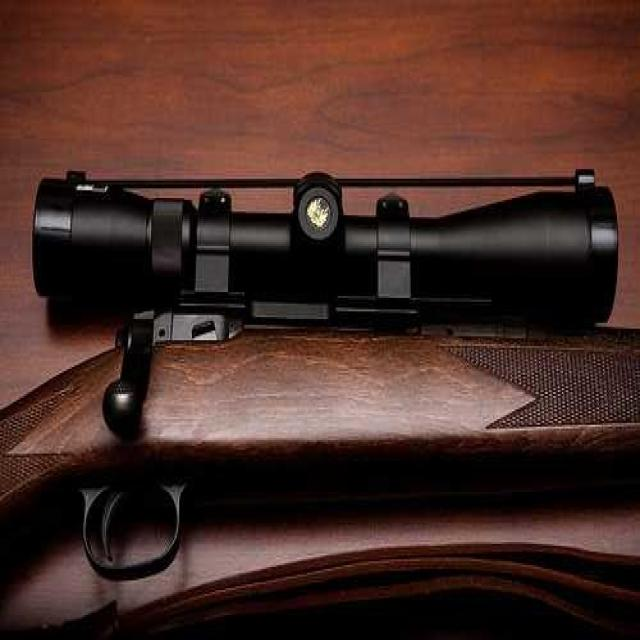heavyweapon: (1, 155, 624, 595)
